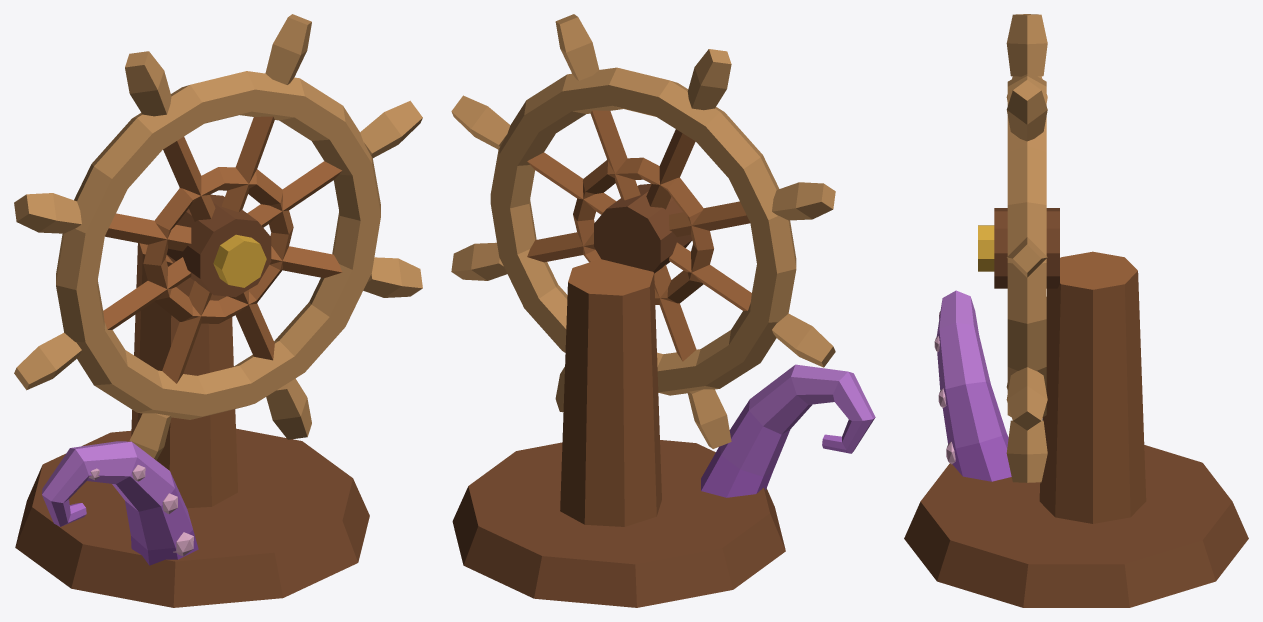
File: habitat_prop_kraken.fbx
3 renders of one model, left to right at view 1: azimuth 30°, elevation 25°; view 2: azimuth 150°, elevation 25°; view 3: azimuth 270°, elevation 25°, orthographic. The views are drawn at different scales.
Visible parts, largest first — view 1: habitat_prop_kraken; view 2: habitat_prop_kraken; view 3: habitat_prop_kraken.
Boxes of the visible parts, x1,y1,x2,y2 form: habitat_prop_kraken: [14, 14, 422, 607]; habitat_prop_kraken: [451, 14, 875, 607]; habitat_prop_kraken: [904, 14, 1248, 607].
Size of the model in its own units: 1.1 by 1.32 by 0.84.
